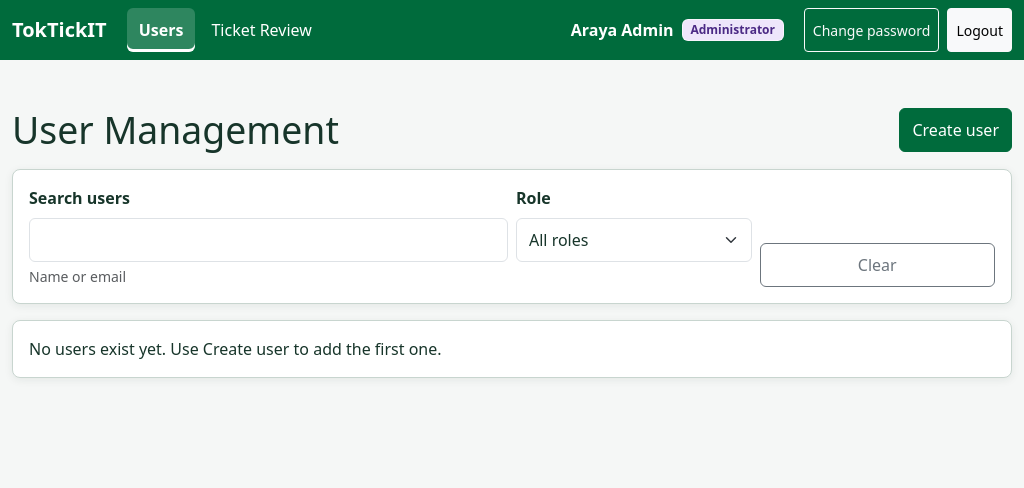
UI-07 User Management list › distinguishes no users, no results, forbidden, and failure with retry
Expected: the text "No users exist yet. Use Create user to add the first one." is shown, [12,320,1012,378]
Type "zzz" into the search field labelled "Search users" at (268, 240), box [29,218,508,262]
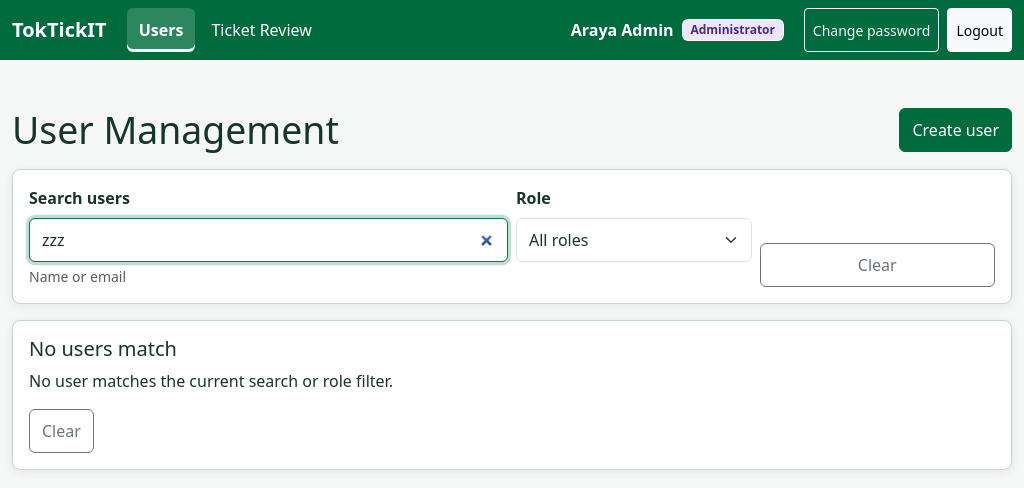
Result: the heading "No users match" is shown at [29,335,177,362]
Result: the text "No users exist yet" is gone
